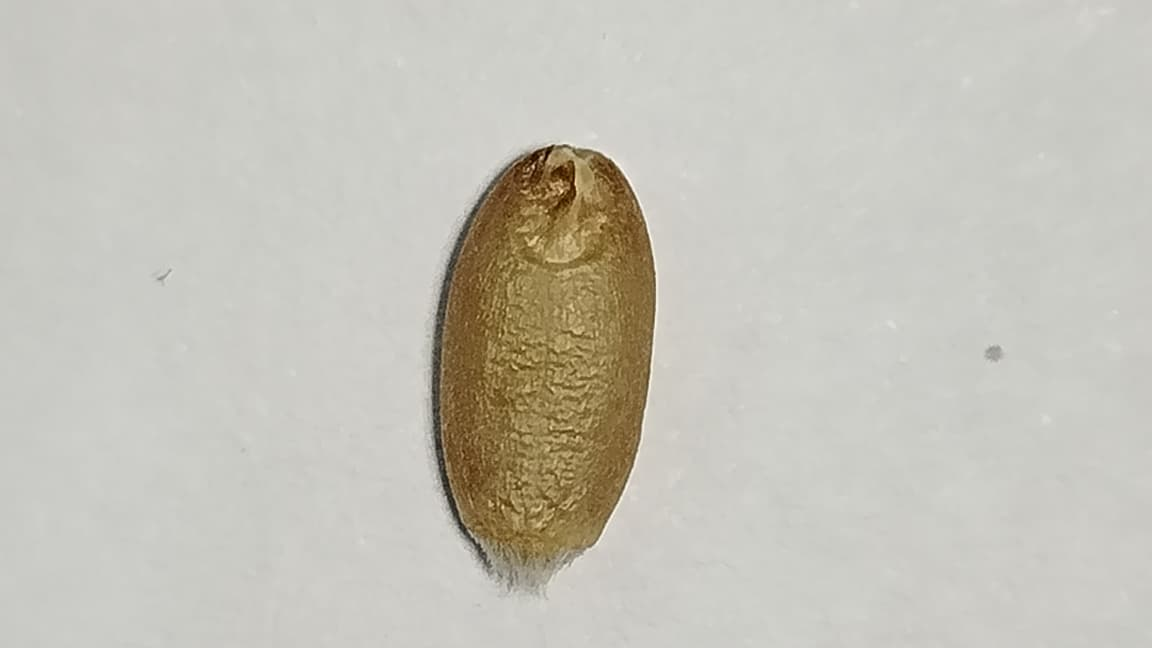healthy: (439, 145, 655, 563)
